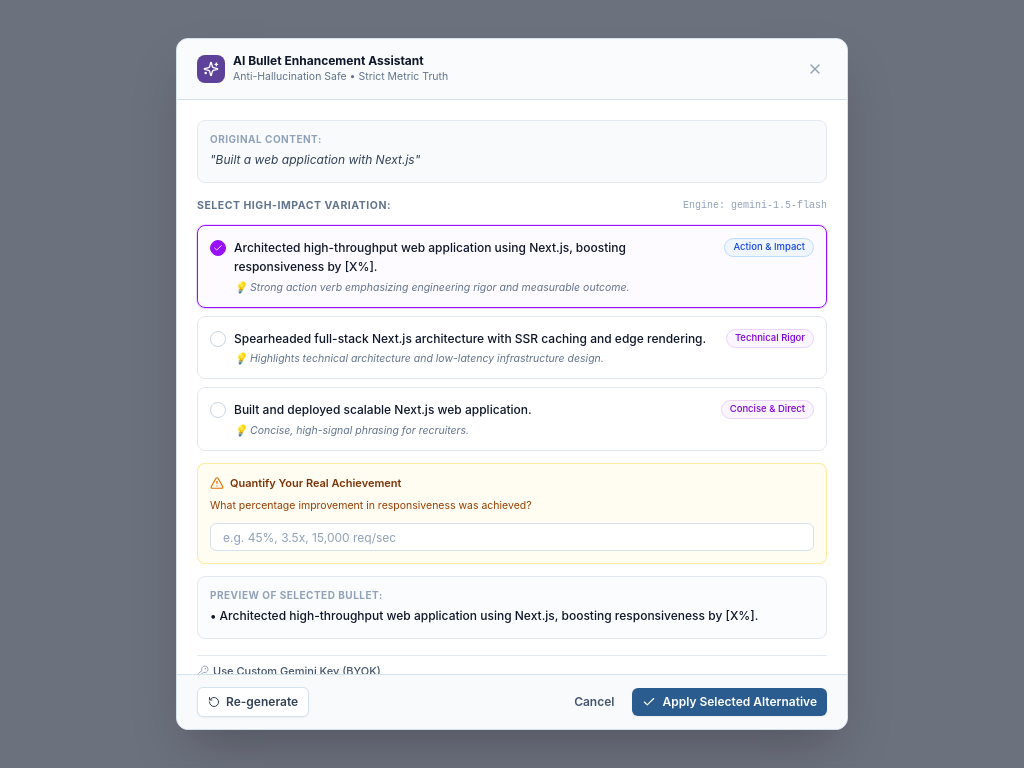
BulletEnhanceModal Component › injects user custom metric into [X%] placeholder before applying
This screenshot has width=1024, height=768.
Later steps or results of the test are not shown.
Expected: the text "Quantify Your Real Achievement" is shown, [230,476,402,491]
Type "42%" into the field with placeholder "e.g. 45%, 3.5x, 15,000 req/sec" at (512, 537), box [210,523,814,551]
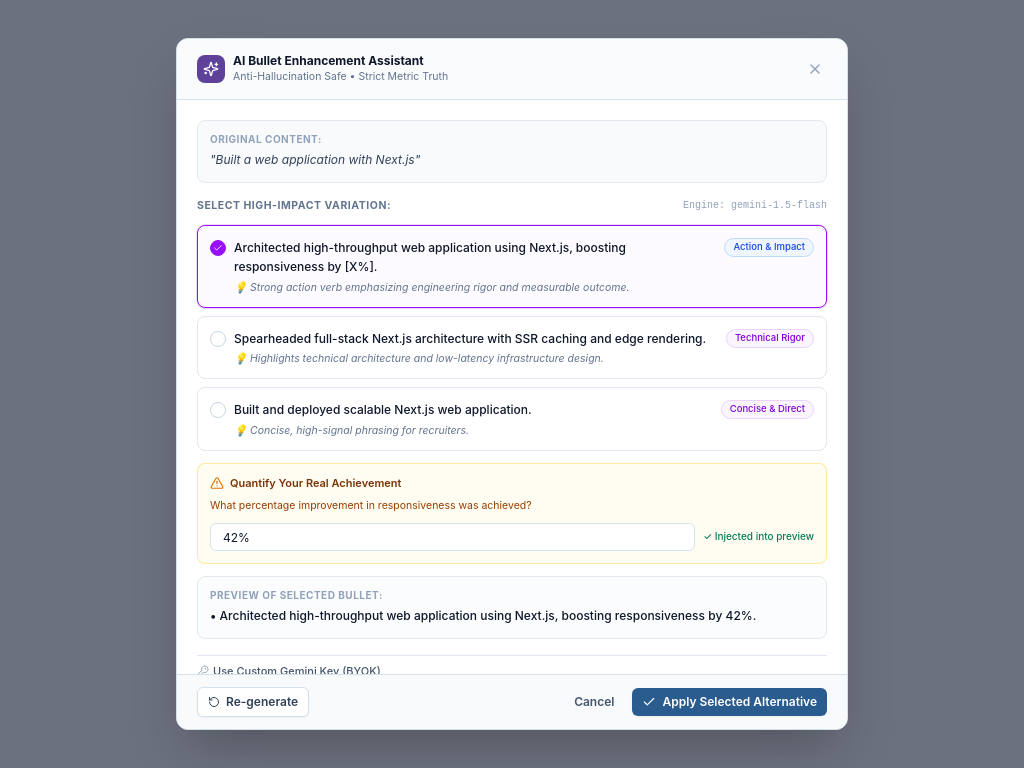
Expected: the text "✓ Injected into preview" is shown, [703,530,814,544]
